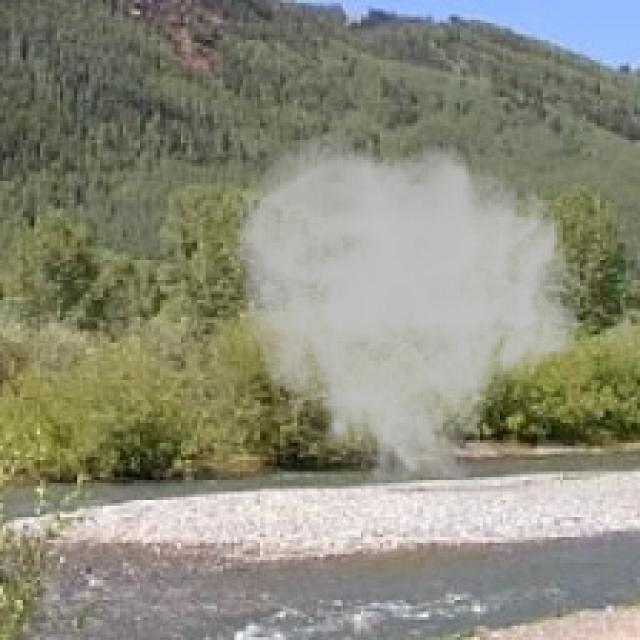Smoke: (225, 126, 586, 500)
